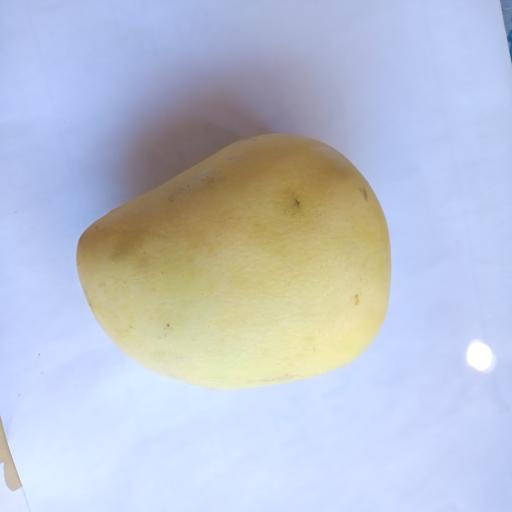mango-ripe: (62, 122, 414, 430)
